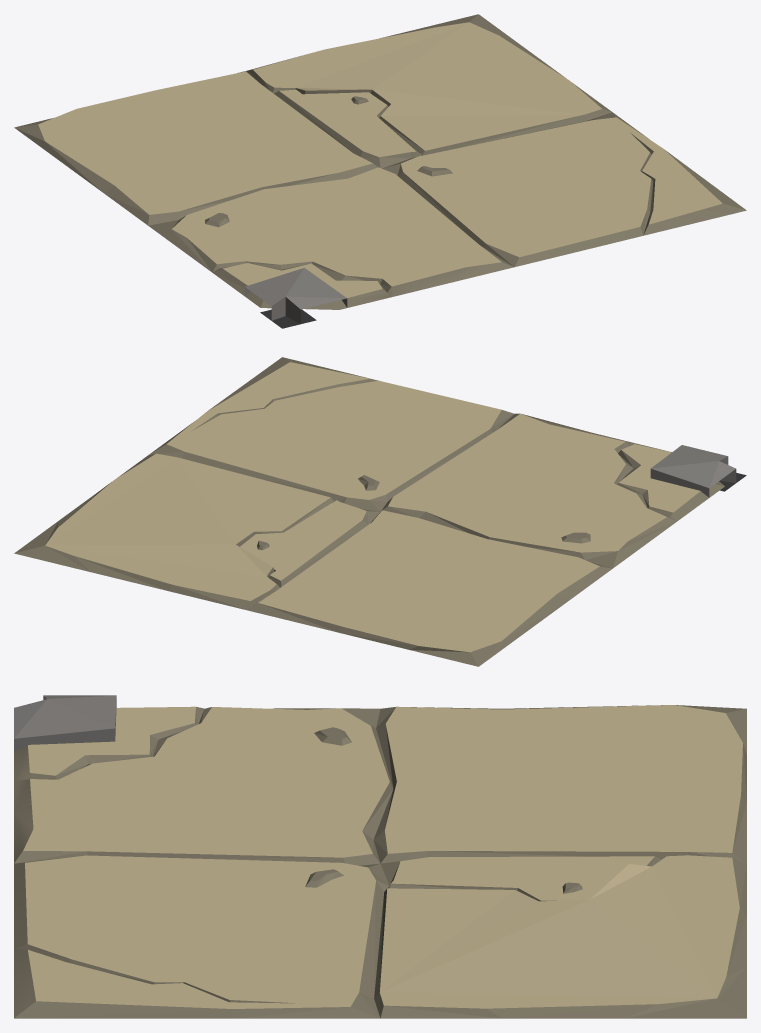
Rendered from Sidewalk_05.FBX.
3 views of the same model, one above another, from view 1: azimuth 30°, elevation 25°; view 2: azimuth 150°, elevation 25°; view 3: azimuth 270°, elevation 25° (orthographic). The views are drawn at different scales.
Visible parts, largest first — view 1: Sidewalk_05; view 2: Sidewalk_05; view 3: Sidewalk_05.
Boxes of the visible parts, box(x1,y1,x2,y2) form: Sidewalk_05: box(14, 14, 746, 328); Sidewalk_05: box(14, 357, 746, 666); Sidewalk_05: box(14, 695, 746, 1018).
Bounding box in the file's own units: 5 × 0.2 × 5.
